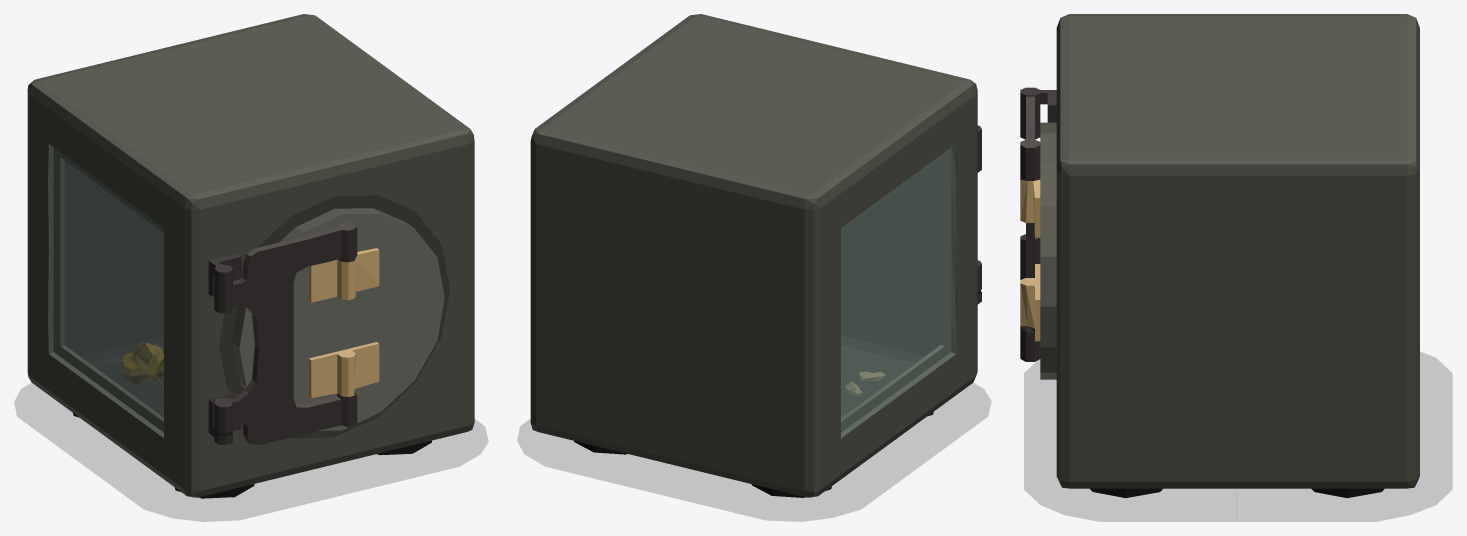
The model's file is seed-vault.gltf.
3 renders of one model, left to right at view 1: azimuth 30°, elevation 25°; view 2: azimuth 150°, elevation 25°; view 3: azimuth 270°, elevation 25°, orthographic. The views are drawn at different scales.
Bounding box in the file's own units: 236 × 209 × 238.
Materials: 2 (2 with a texture image).
